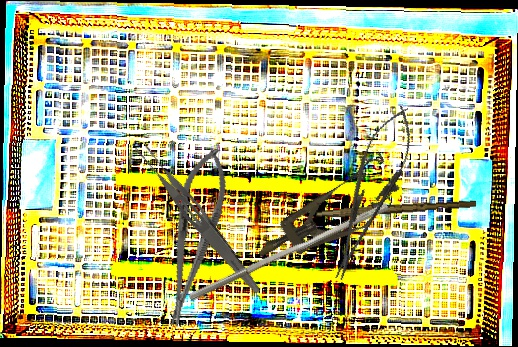Dressing Forceps: (130, 138, 269, 297)
Needle Holder: (317, 99, 425, 287), (151, 143, 236, 331)
Pusher: (188, 195, 390, 310)
Scalpel Handle: (315, 197, 477, 222)
Speculum: (244, 150, 409, 281)
